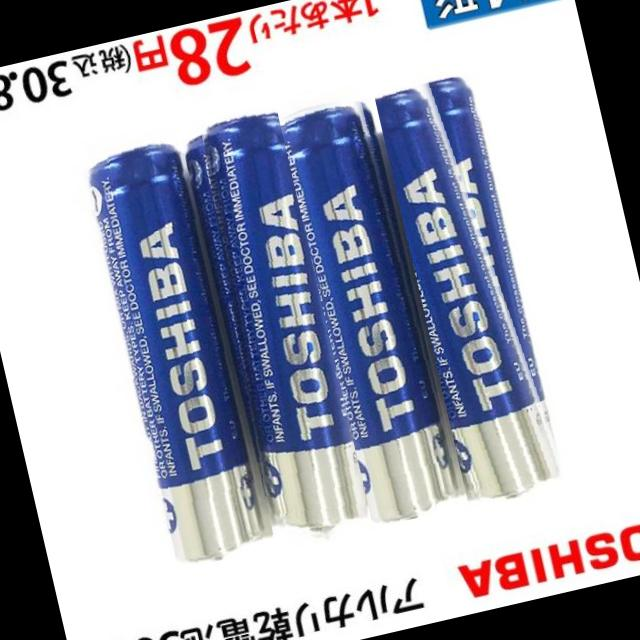Hazard: (67, 118, 270, 570), (176, 104, 372, 553), (268, 84, 465, 528), (371, 65, 568, 508)
